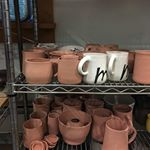cups: (76, 51, 108, 86), (105, 49, 131, 84)
